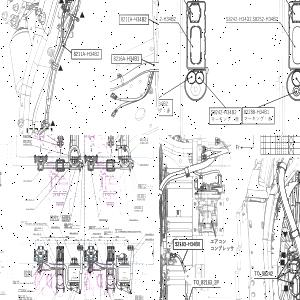PartNumber: (243, 108, 270, 116), (226, 14, 251, 22), (252, 15, 279, 22), (210, 109, 237, 116), (73, 51, 100, 57), (120, 16, 147, 22), (114, 56, 140, 62), (174, 241, 200, 247), (159, 15, 176, 21), (159, 100, 168, 107), (20, 221, 28, 223), (13, 280, 20, 282), (18, 288, 25, 290), (34, 228, 41, 230), (33, 233, 40, 235), (51, 226, 58, 228), (64, 223, 71, 225), (88, 226, 95, 228), (93, 232, 100, 234), (104, 231, 111, 233), (115, 228, 122, 230), (114, 298, 121, 300), (135, 298, 142, 300), (135, 295, 142, 297), (137, 197, 144, 199), (137, 195, 144, 197), (138, 184, 145, 186), (23, 141, 30, 143), (23, 180, 30, 182), (25, 199, 32, 201), (26, 208, 33, 210), (50, 216, 57, 218), (0, 291, 4, 294), (24, 274, 30, 276), (24, 272, 30, 274), (24, 270, 30, 272), (70, 232, 76, 234), (100, 219, 106, 221), (130, 219, 136, 221), (135, 206, 141, 208), (140, 138, 146, 140), (50, 217, 56, 219), (62, 218, 68, 220), (62, 216, 68, 218), (134, 208, 142, 209), (19, 295, 26, 296), (145, 234, 152, 235), (85, 299, 92, 300), (135, 297, 142, 298), (137, 194, 144, 195), (140, 164, 147, 165), (22, 135, 29, 136), (23, 140, 30, 141), (146, 239, 152, 240), (140, 140, 146, 141), (62, 215, 68, 216)
